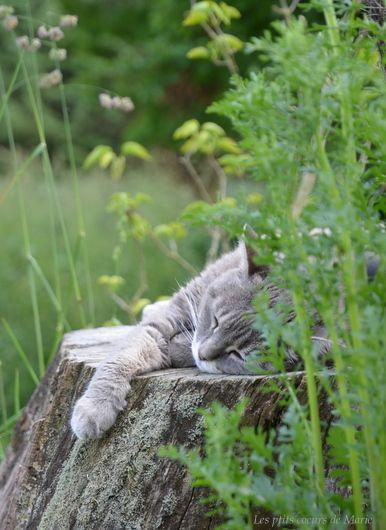kedo: (70, 223, 336, 442)
